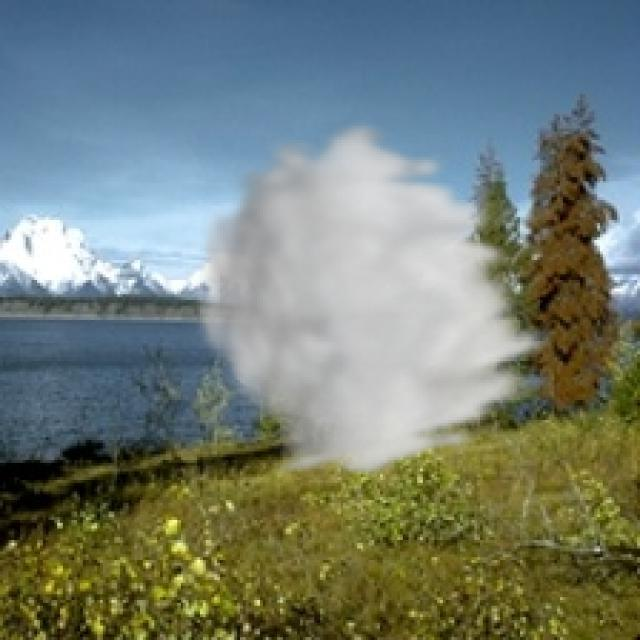Smoke: (188, 117, 563, 480)
